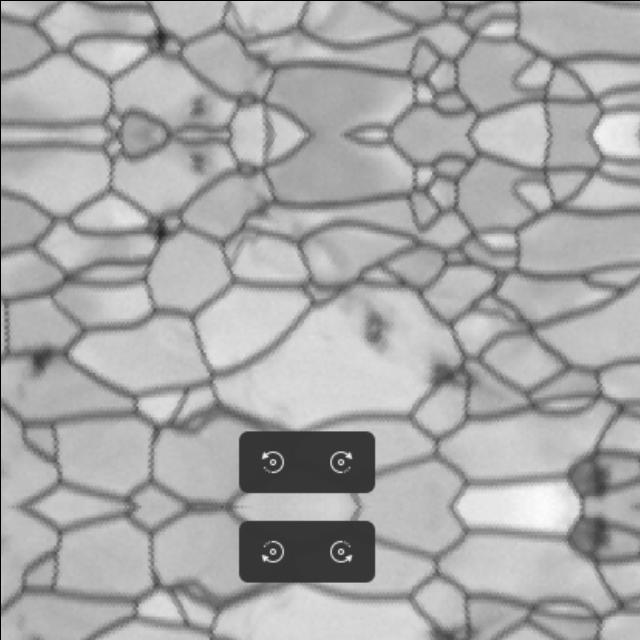good_void: (572, 453, 613, 493), (572, 518, 613, 558), (354, 304, 388, 352), (24, 342, 59, 376), (427, 355, 461, 387), (142, 210, 167, 241), (142, 25, 167, 56), (184, 149, 208, 174), (184, 92, 208, 117), (428, 624, 461, 640), (12, 379, 28, 399), (12, 612, 28, 632)
